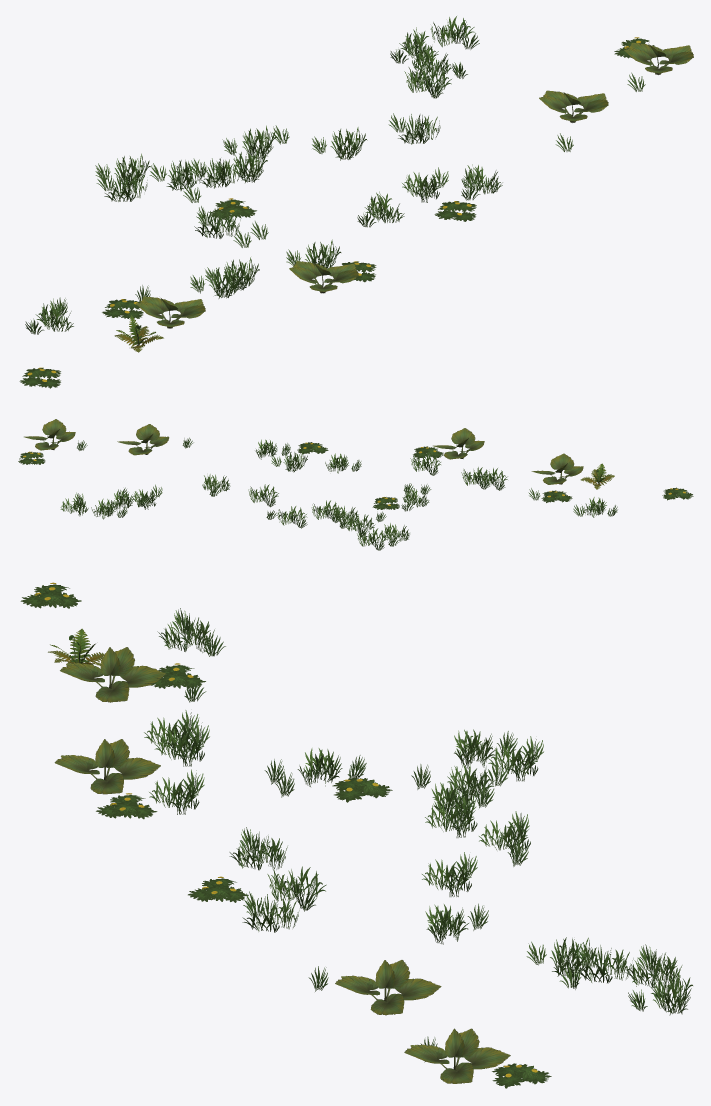
File: scene_senlincaodi_zhiwu003.FBX
3 renders of one model, top to bottom at view 1: azimuth 30°, elevation 25°; view 2: azimuth 150°, elevation 25°; view 3: azimuth 270°, elevation 25°, orthographic. The views are drawn at different scales.
Parts seen in each view (by area): view 1: scene_senlincaodi_zhiwu003; view 2: scene_senlincaodi_zhiwu003; view 3: scene_senlincaodi_zhiwu003.
Part boxes in pixels (box(x1,y1,x2,y2)): scene_senlincaodi_zhiwu003: box(19, 16, 693, 388); scene_senlincaodi_zhiwu003: box(18, 419, 693, 550); scene_senlincaodi_zhiwu003: box(20, 582, 692, 1088).
Size of the model in its own units: 2876 by 132 by 1624.
